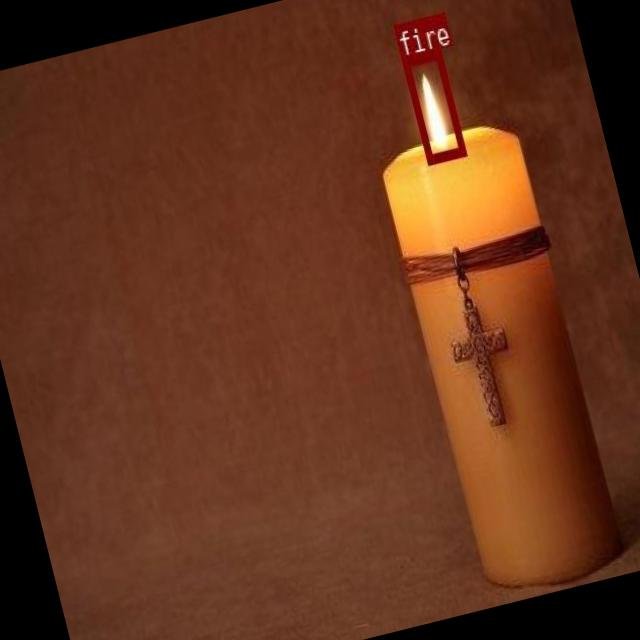fire: (400, 47, 464, 162)
